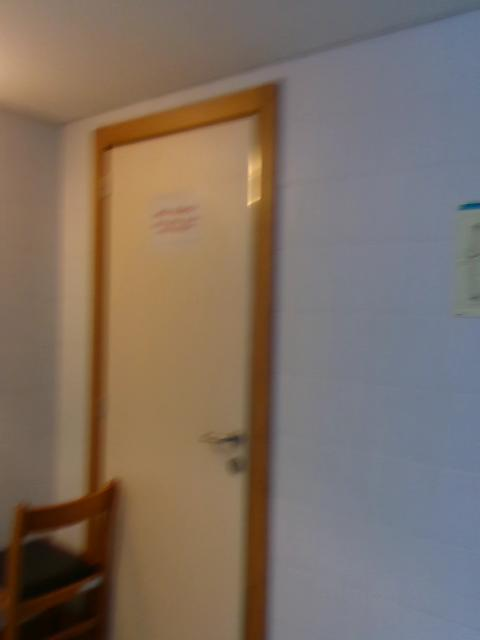door: (100, 112, 262, 640)
